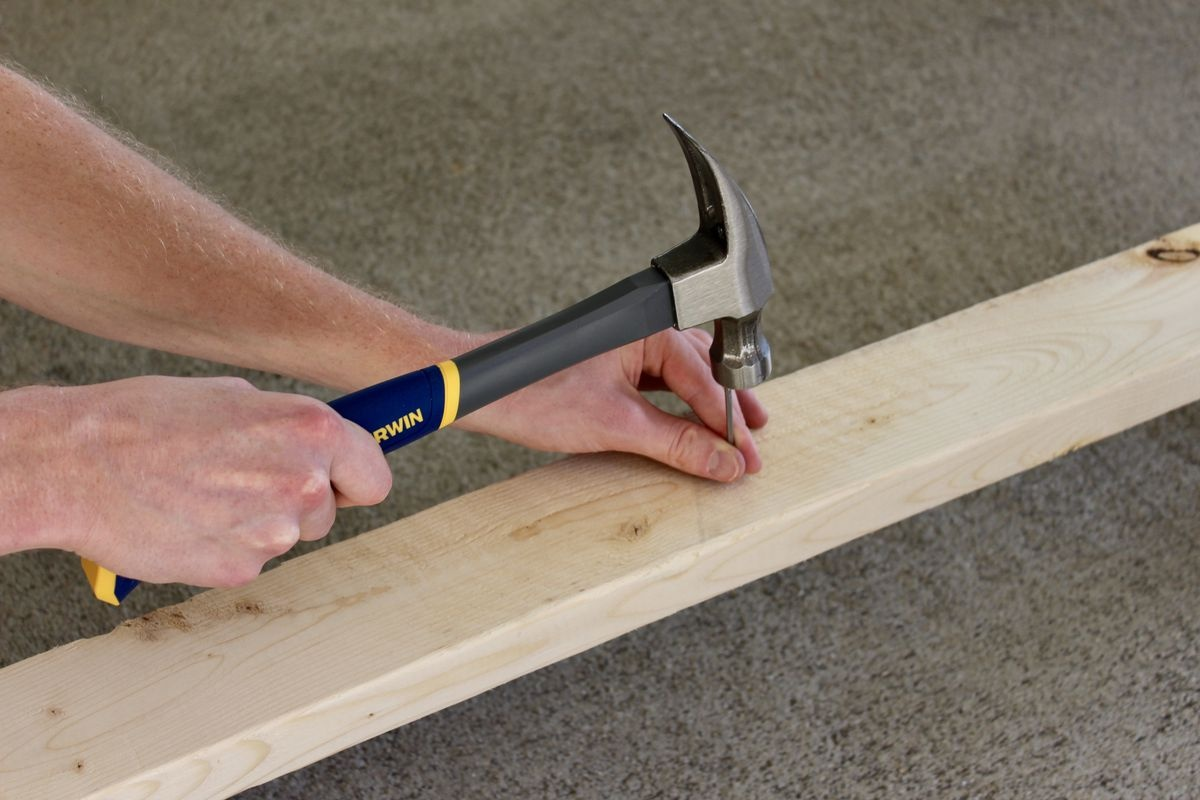hammer: (69, 107, 778, 609)
